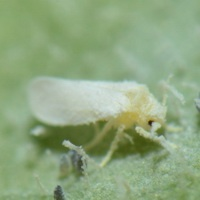insect: (28, 76, 165, 166)
